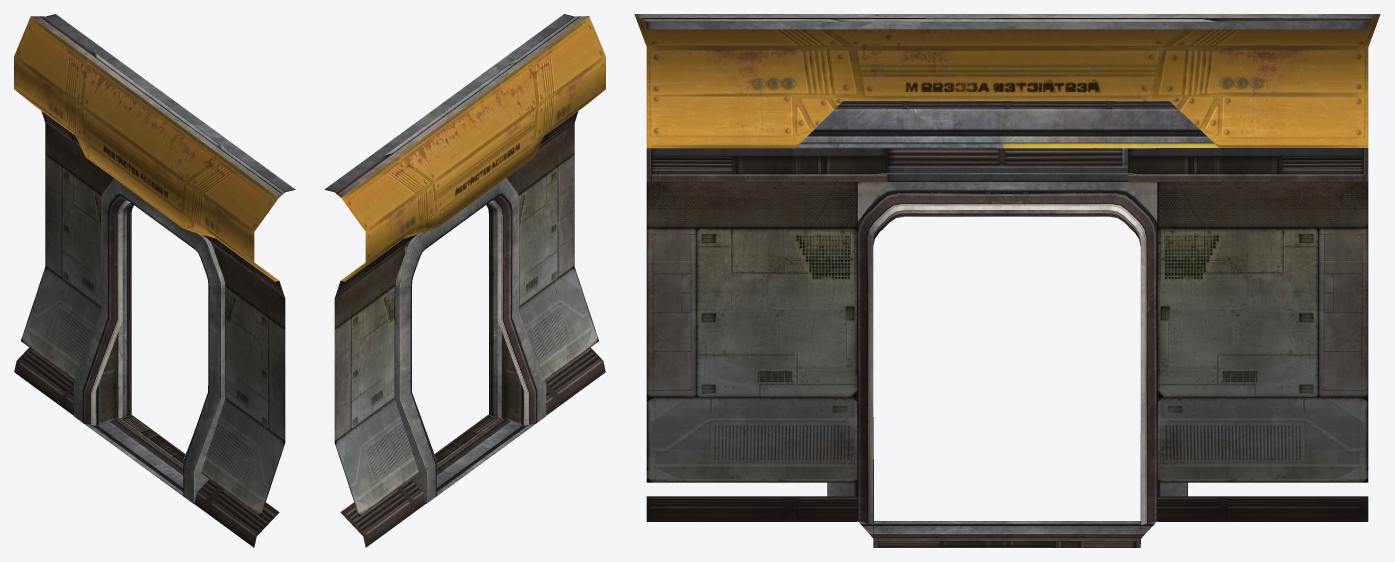
File: ARC_WallSideA_DoorSmallFrame_CONNECT.FBX
3 views of the same model, side by side, from view 1: azimuth 30°, elevation 25°; view 2: azimuth 150°, elevation 25°; view 3: azimuth 270°, elevation 25° (orthographic). The views are drawn at different scales.
Visible parts, largest first — view 1: ARC_WallSideA_DoorSmallFrame_CONNECT; view 2: ARC_WallSideA_DoorSmallFrame_CONNECT; view 3: ARC_WallSideA_DoorSmallFrame_CONNECT.
Boxes of the visible parts, <box> form: ARC_WallSideA_DoorSmallFrame_CONNECT: <box>14,14,295,547</box>; ARC_WallSideA_DoorSmallFrame_CONNECT: <box>324,14,605,547</box>; ARC_WallSideA_DoorSmallFrame_CONNECT: <box>634,14,1380,547</box>.
Bounding box in the file's own units: 50.88 × 400 × 517.
Materials: 1 (1 with a texture image).
